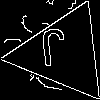J: (37, 28, 71, 77)
